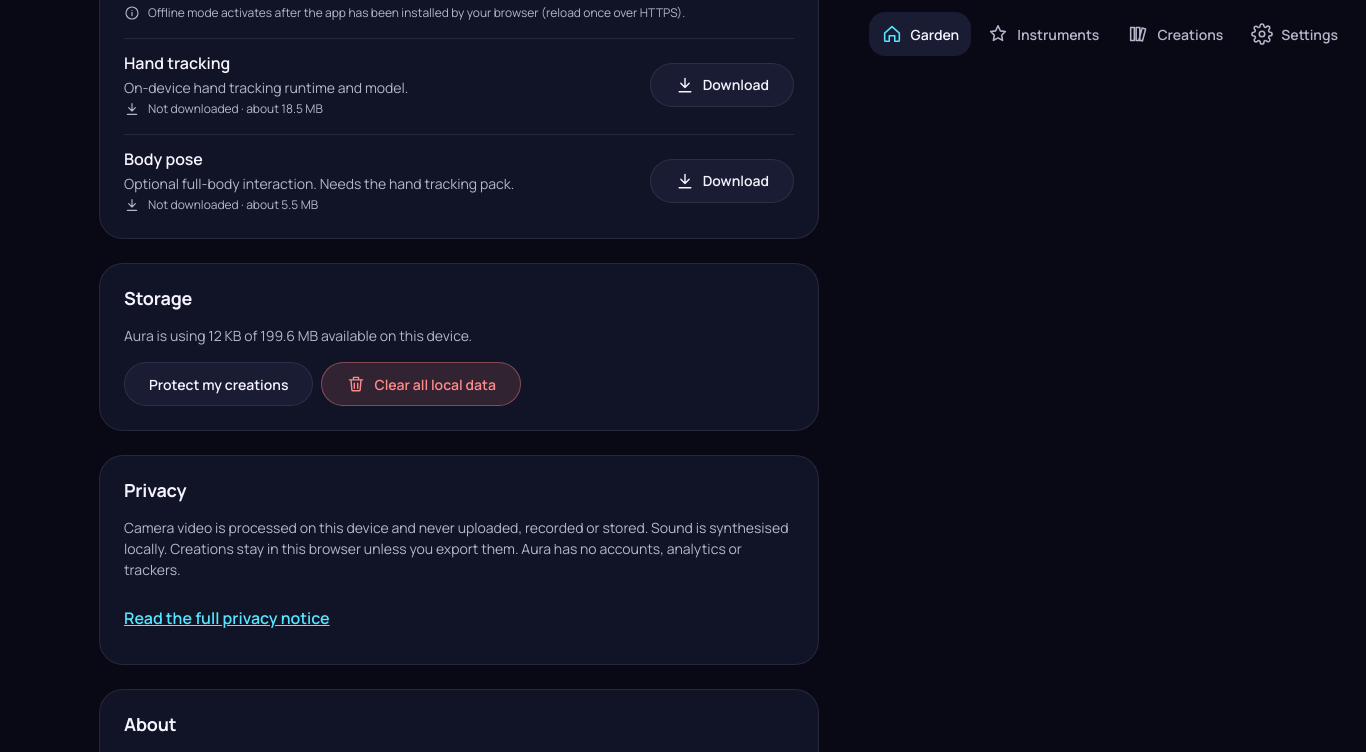
Settings › requires confirmation before clearing all data
The image size is (1366, 752).
(page scrolled)
Click the button "Clear all local data": (421, 384) [321,362,521,406]
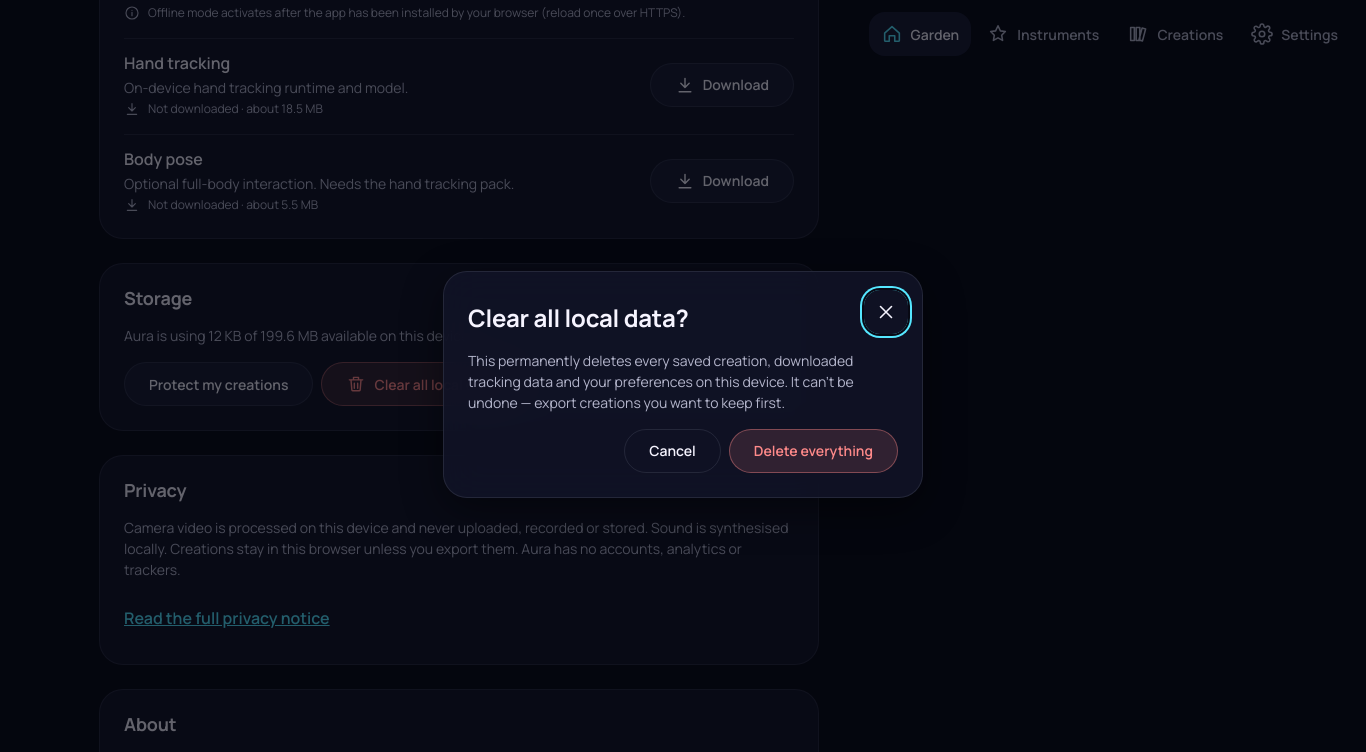
Expected: the dialog "Clear all local data" is shown, [443,270,923,498]
Expected: the button "Delete everything" is shown, [729,428,898,472]
